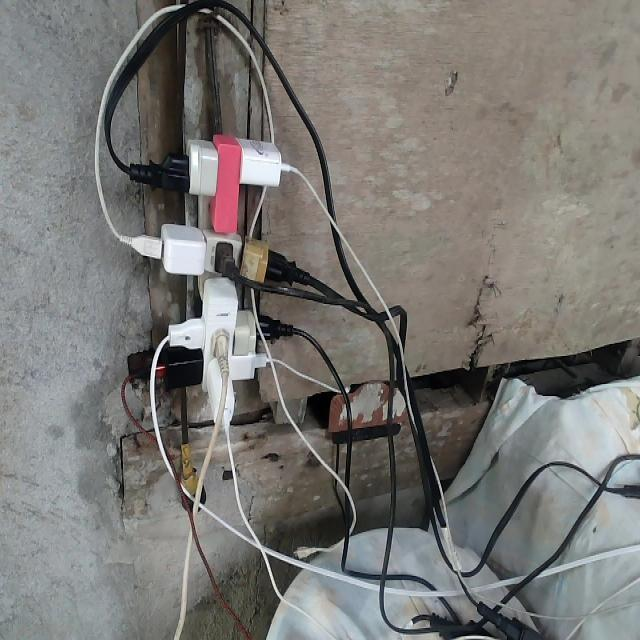-: (118, 131, 306, 432)
